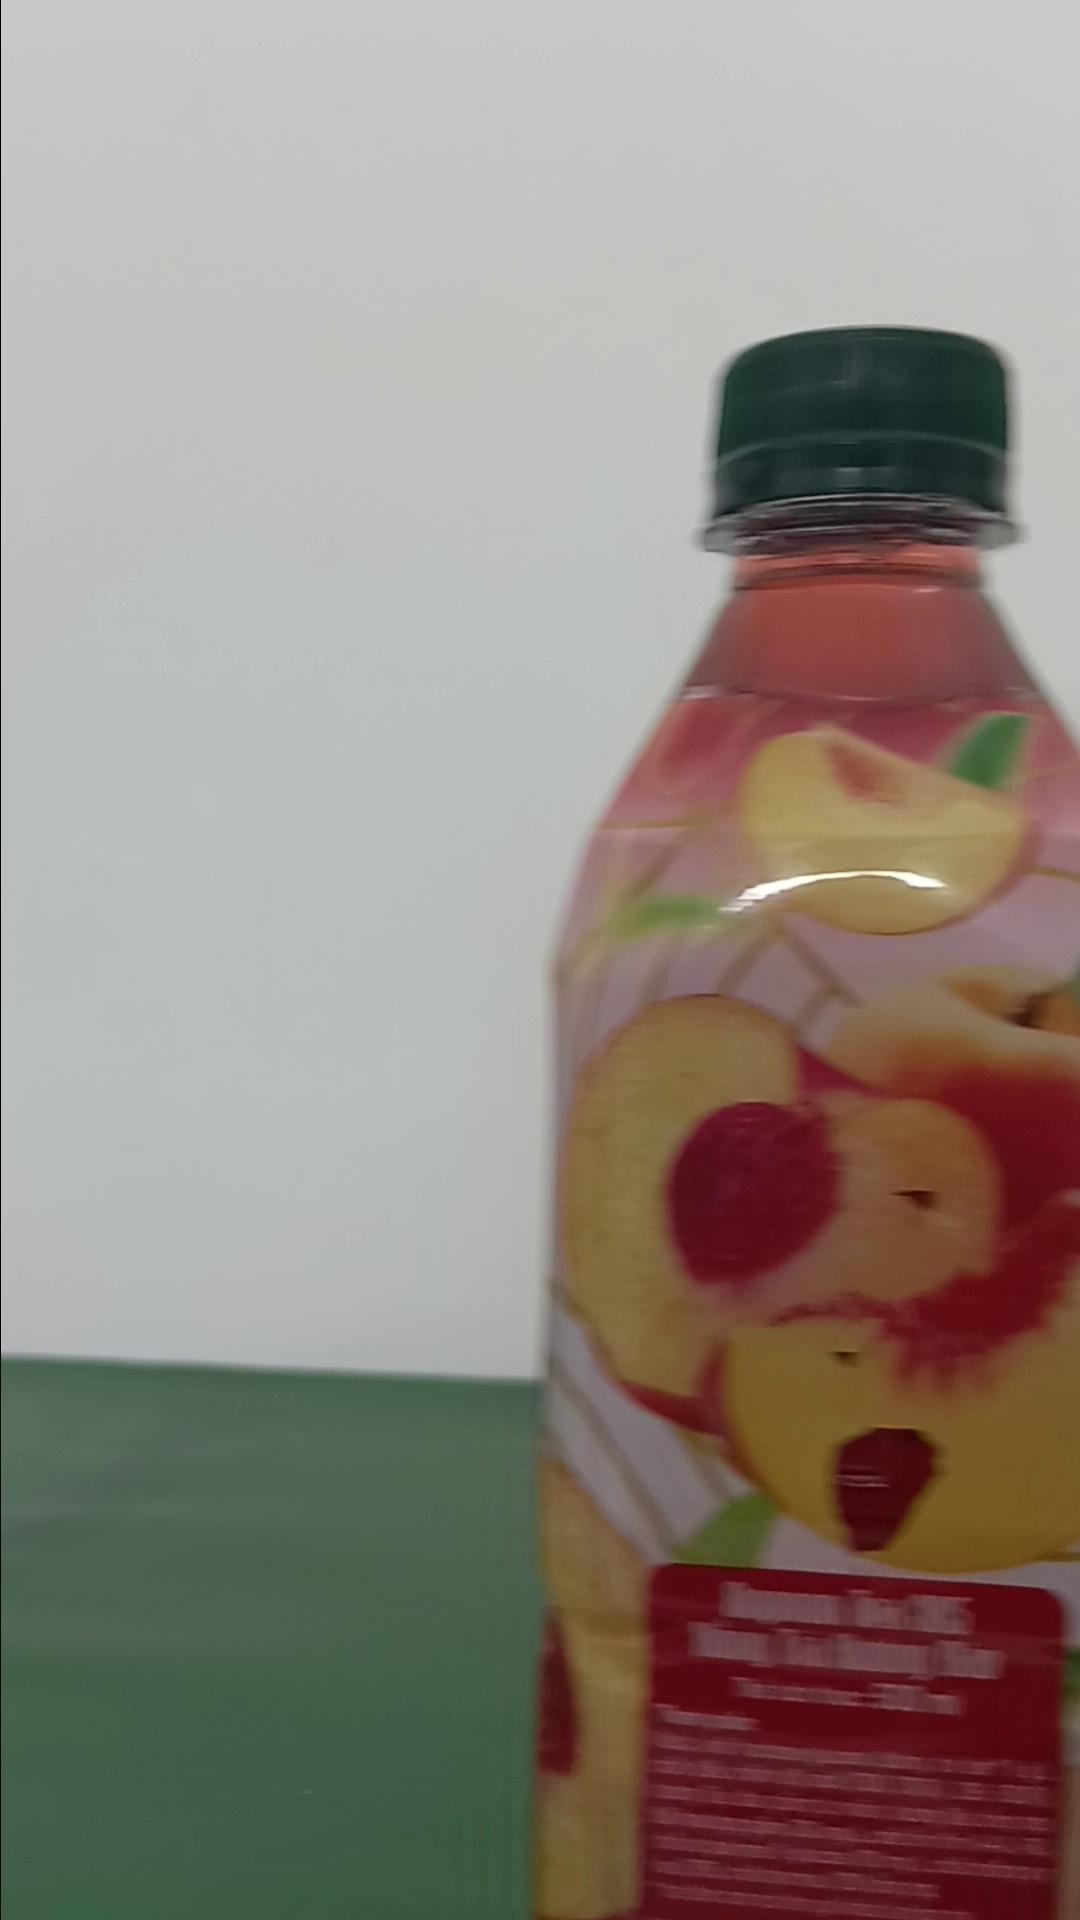loi rach va lap chai: (538, 319, 1077, 1920)
